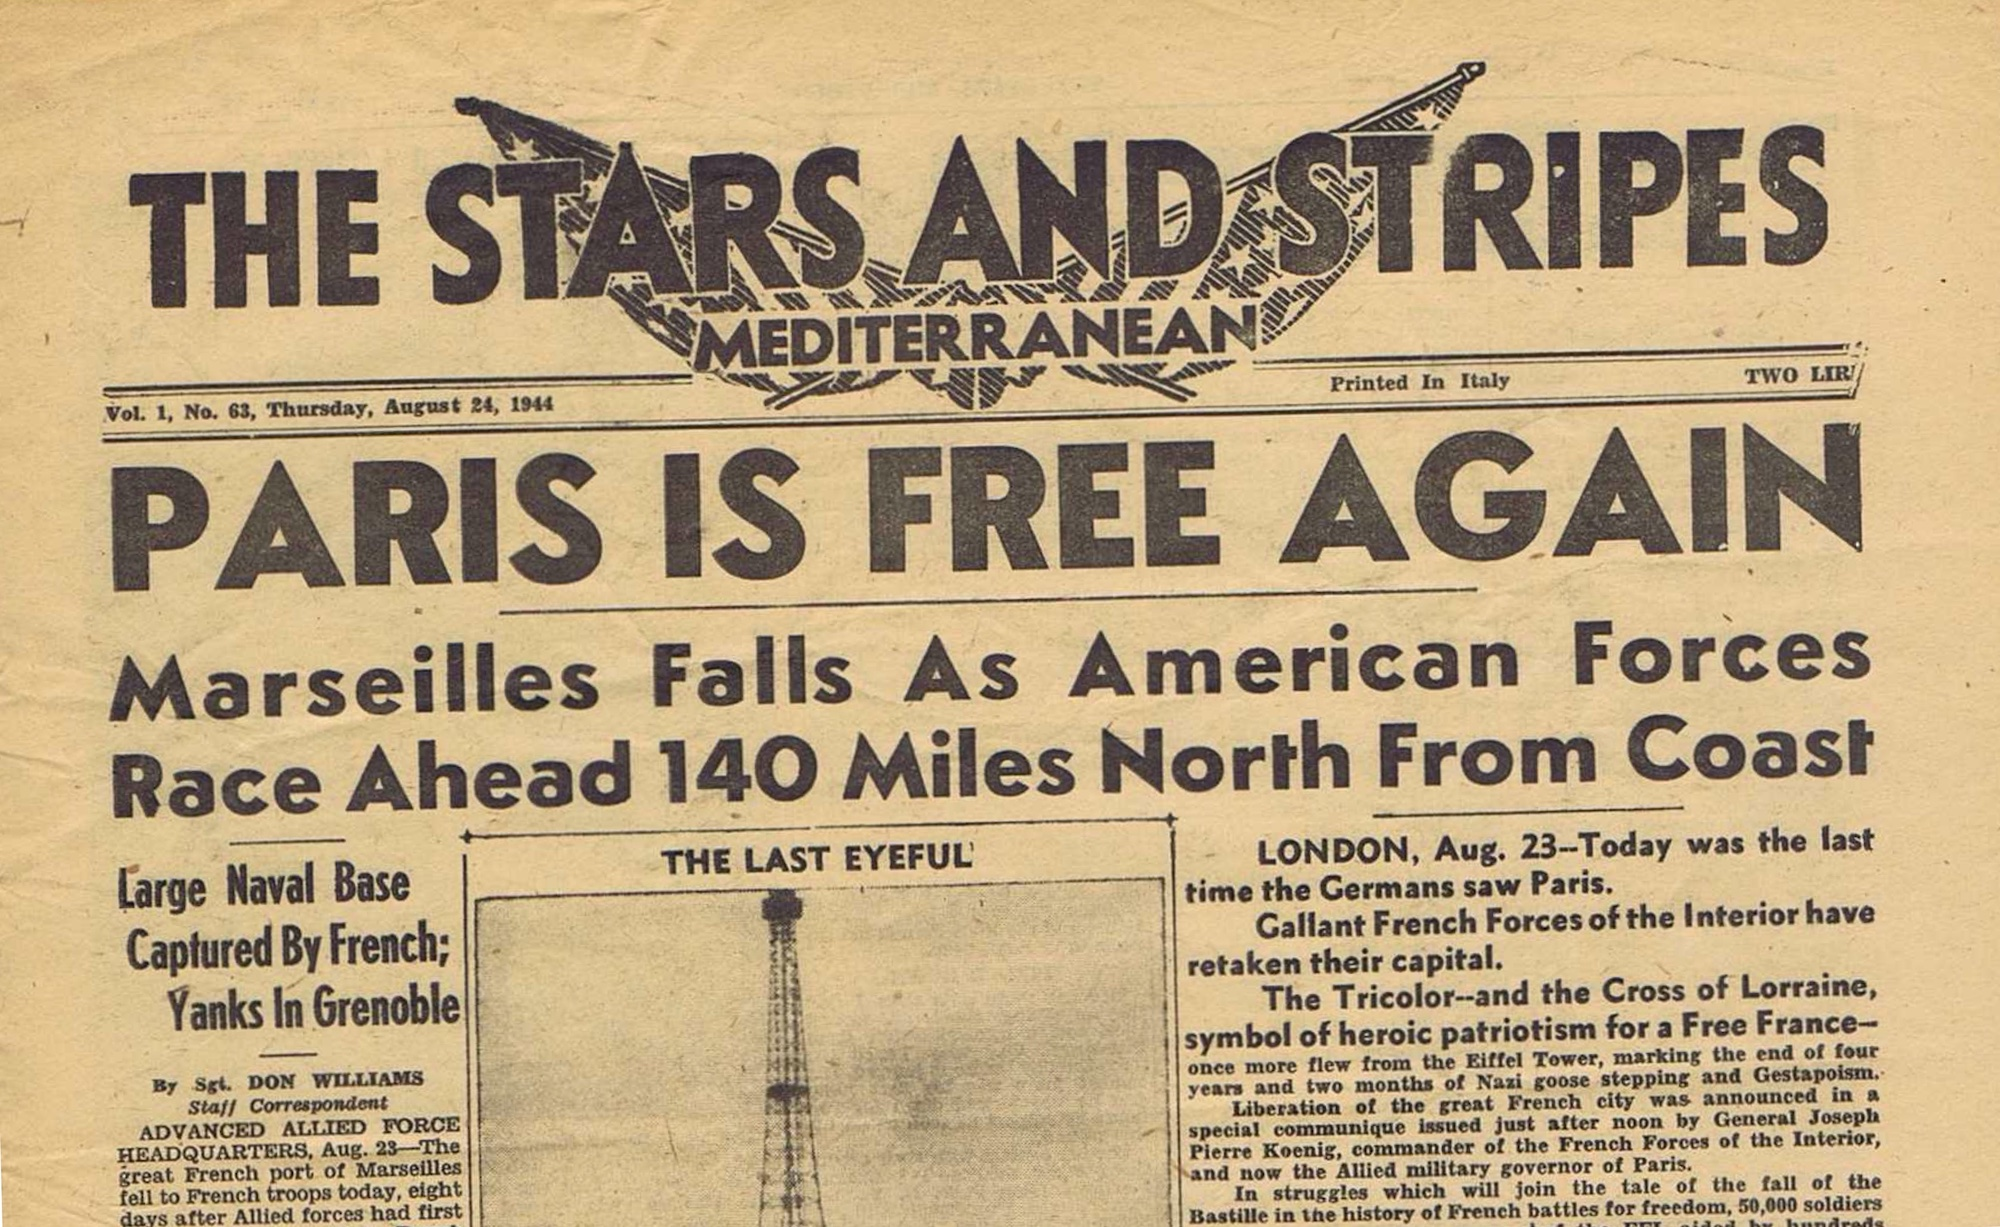news_paper: (10, 4, 2000, 1218)
